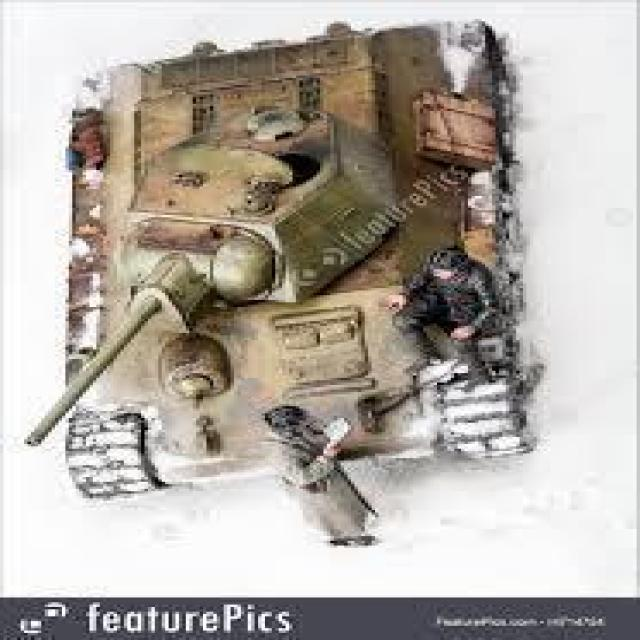Tanks: (50, 31, 545, 510)
